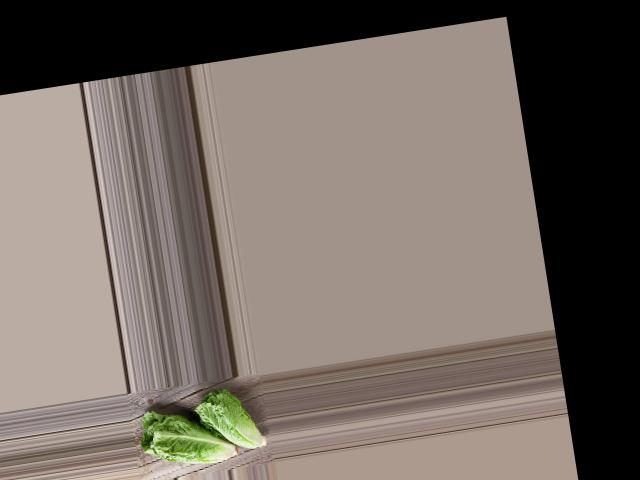lettuce: (189, 377, 272, 459)
